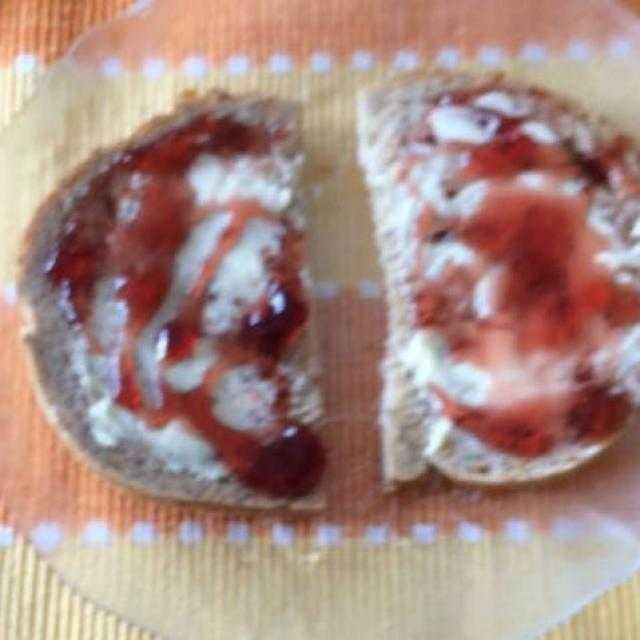bread-wholemeal: (30, 70, 634, 538)
butter: (70, 98, 638, 488)
jam: (71, 94, 634, 520)
